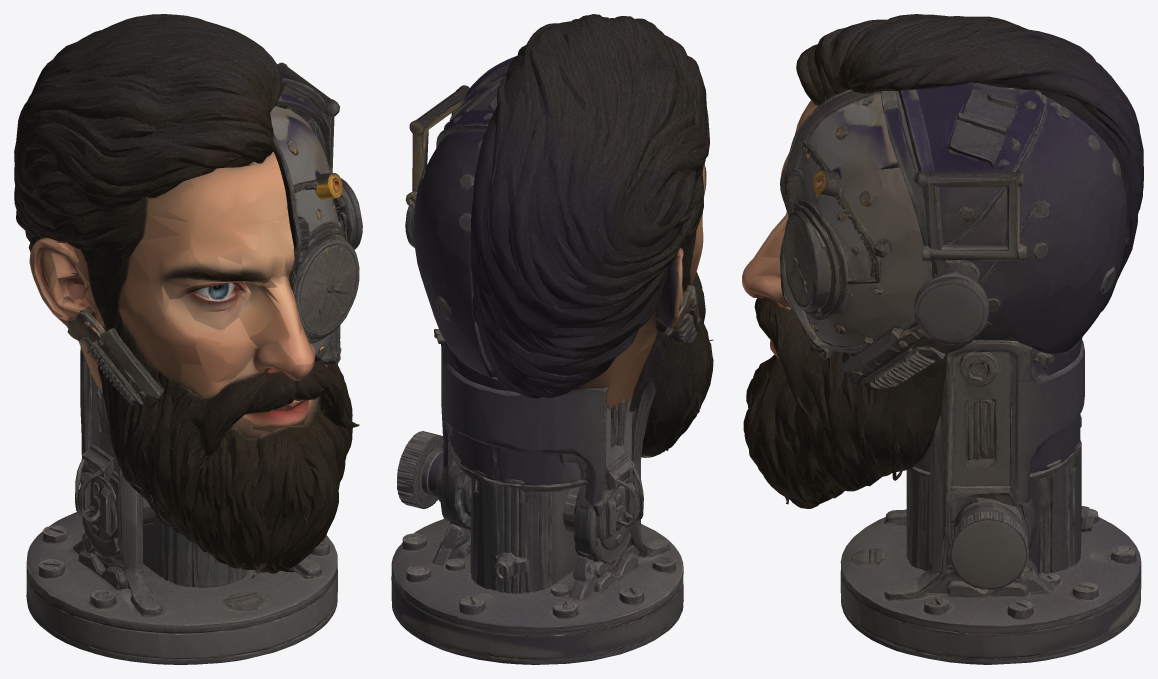
File: QUILL-head.glb
The picture shows the model from 3 angles, left to right: view 1: azimuth 30°, elevation 25°; view 2: azimuth 150°, elevation 25°; view 3: azimuth 270°, elevation 25°; orthographic projection. The views are drawn at different scales.
Visible parts, largest first — view 1: mesh_node; view 2: mesh_node; view 3: mesh_node.
Boxes of the visible parts, x1,y1,x2,y2 form: mesh_node: (14, 14, 362, 664); mesh_node: (391, 14, 713, 664); mesh_node: (742, 14, 1143, 664).
Size of the model in its own units: 0.9992 by 1.9 by 1.2.
Materials: 1 (1 with a texture image).
